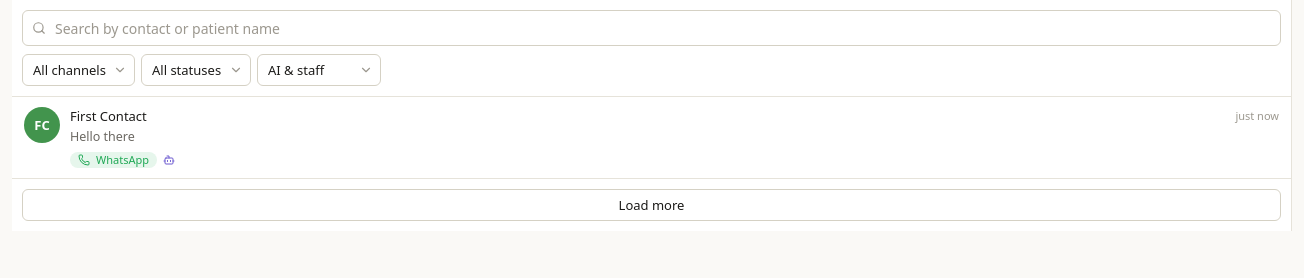
Test case: ConversationList › loads the next page via cursor pagination when "Load more" is clicked
The image size is (1304, 278).
Check: the text "First Contact" is shown, box [70, 107, 147, 126]
Check: the text "Second Contact" is not shown
Click the button "Load more": (652,205) [22, 189, 1281, 221]
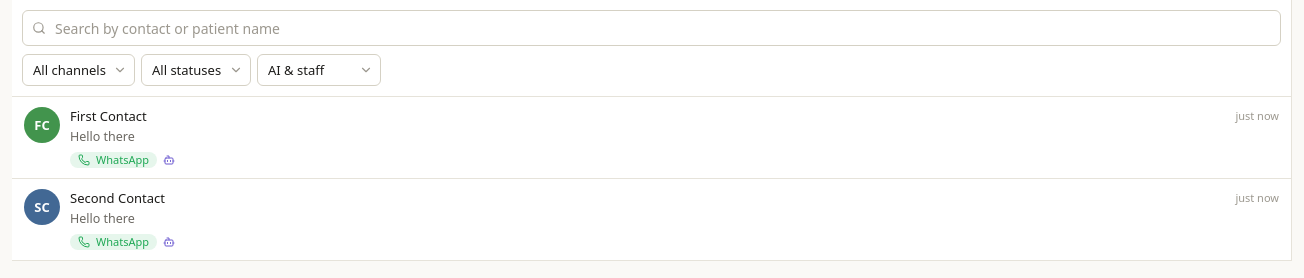
Check: the text "First Contact" is shown, box [70, 107, 147, 126]
Check: the text "Second Contact" is shown, box [70, 189, 165, 208]
